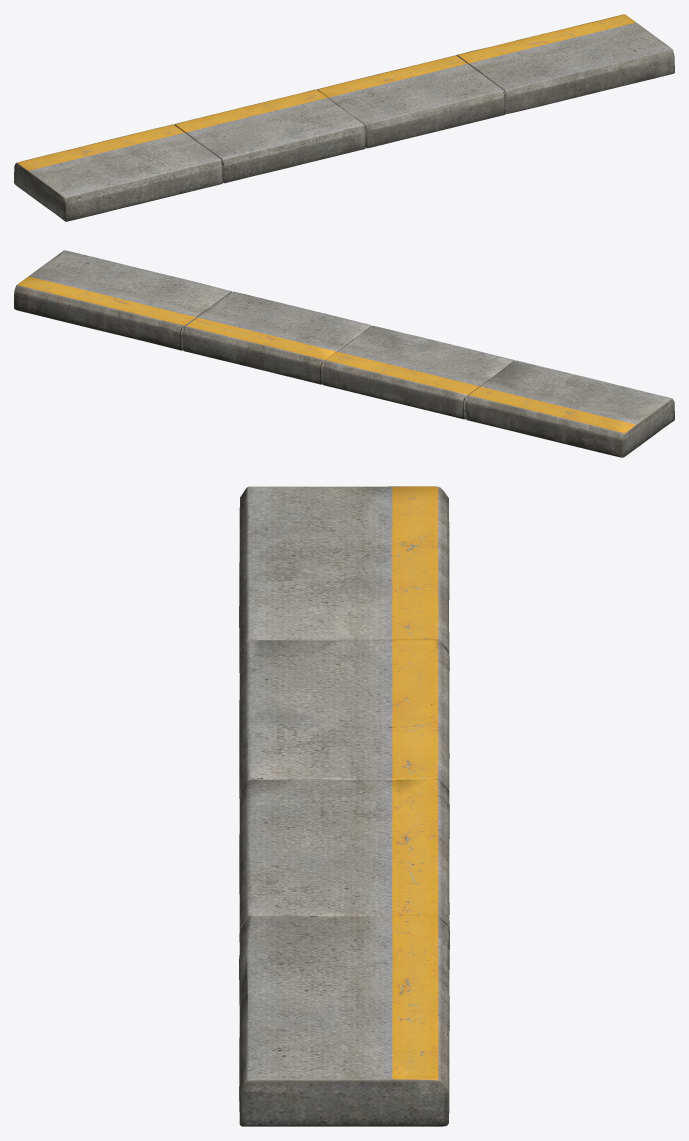
The model's file is track-curb.glb.
3 renders of one model, top to bottom at view 1: azimuth 30°, elevation 25°; view 2: azimuth 150°, elevation 25°; view 3: azimuth 270°, elevation 25°, orthographic. The views are drawn at different scales.
Visible parts, largest first — view 1: track-curb; view 2: track-curb; view 3: track-curb.
Part boxes in pixels (x1,y1,x2,y2): track-curb: (14,14,674,221); track-curb: (14,250,674,457); track-curb: (239,486,449,1126).
Size of the model in its own units: 4 by 0.15 by 0.6.
Materials: 1 (1 with a texture image).
